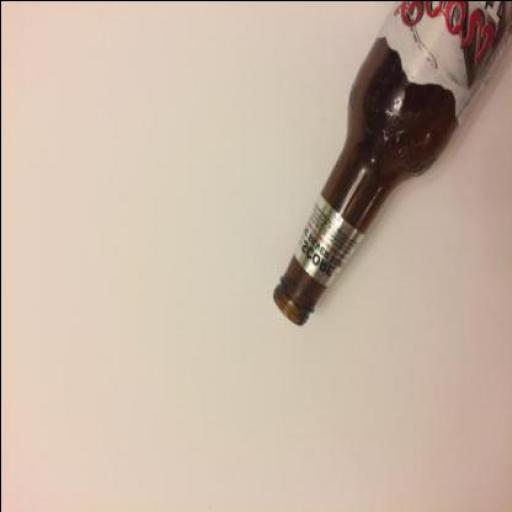glass: (270, 1, 512, 326)
